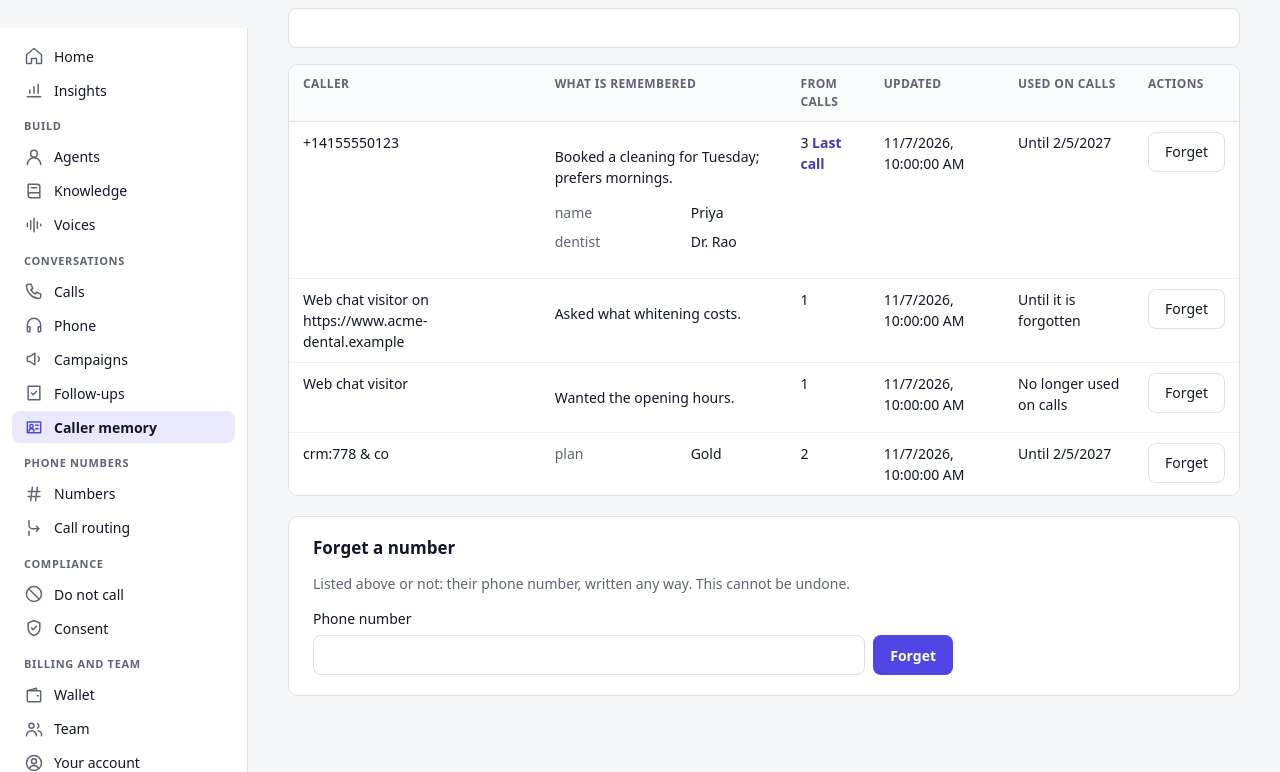
it: caller memory › forgets any number typed in, says whether anything was remembered about it, and reads the list again
(page scrolled)
In the field labelled "Phone number": [589, 655] box [313, 635, 865, 675], type "+1 415 555 0199"
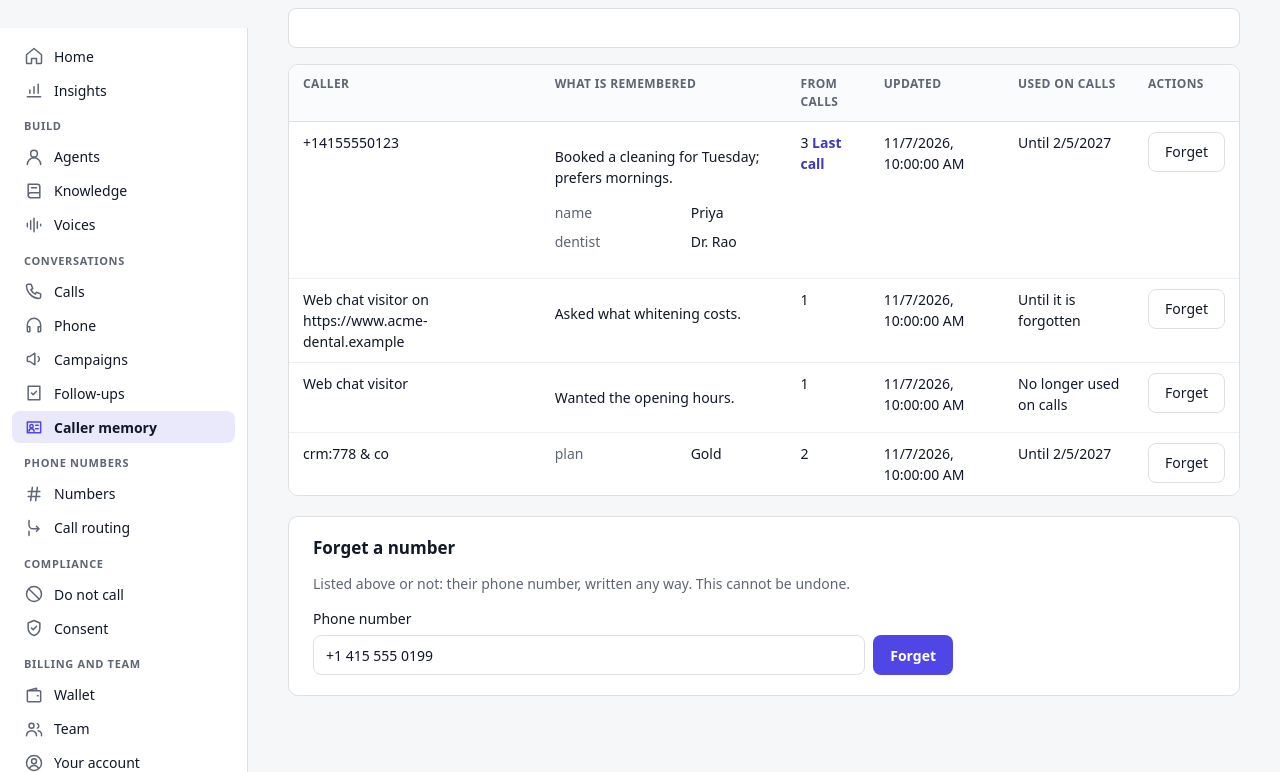
Click the 5th button "Forget": [913, 655] box [873, 635, 953, 675]
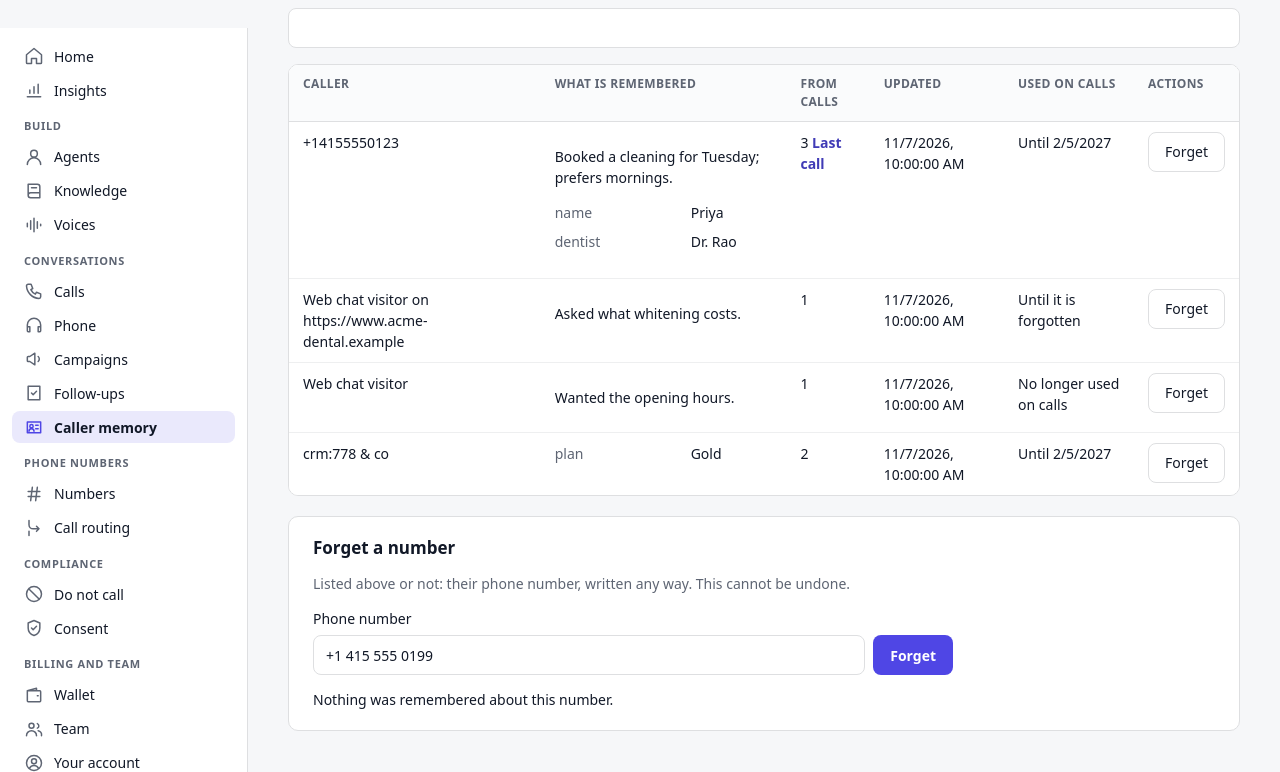
Now the message reads "Nothing was remembered about this number.", box [313, 690, 613, 709]
Replace the text in the field labelled "Phone number" with "+1 (415) 555-0123": [589, 655] box [313, 635, 865, 675]
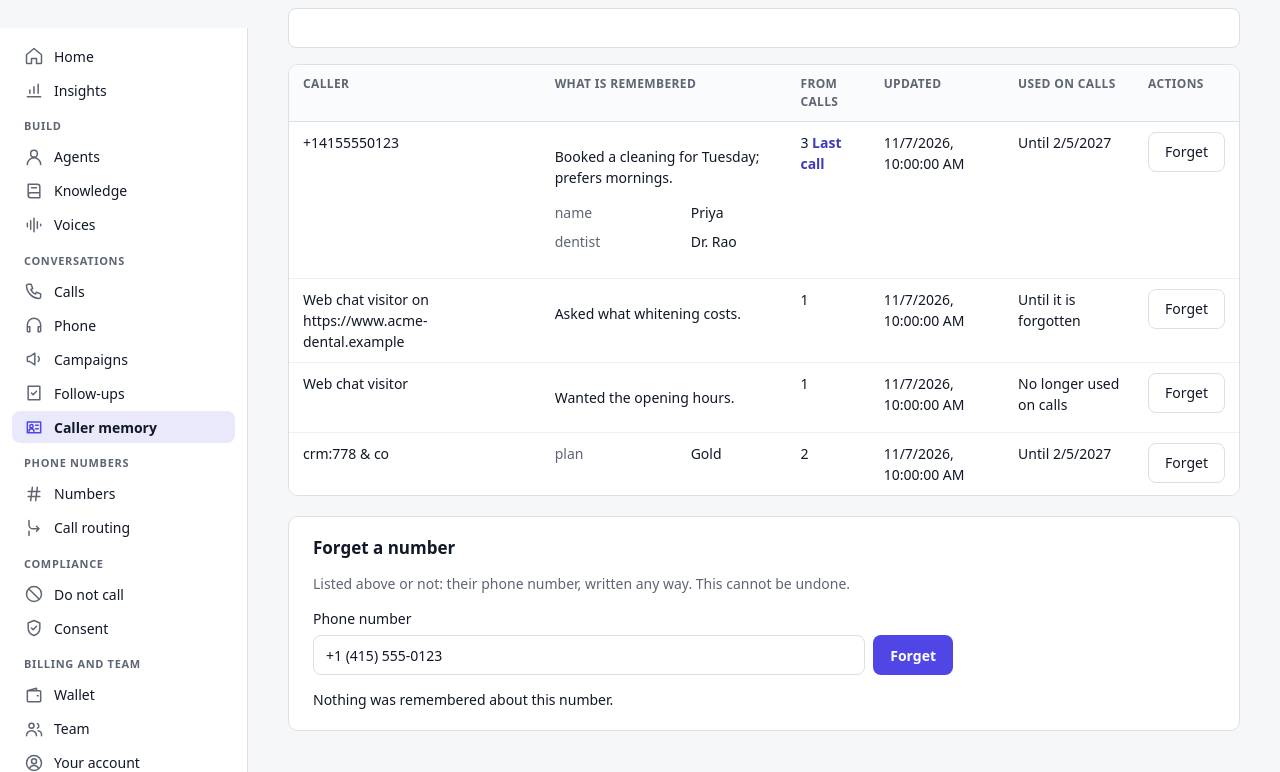
Click the 5th button "Forget": [913, 655] box [873, 635, 953, 675]
(page scrolled)
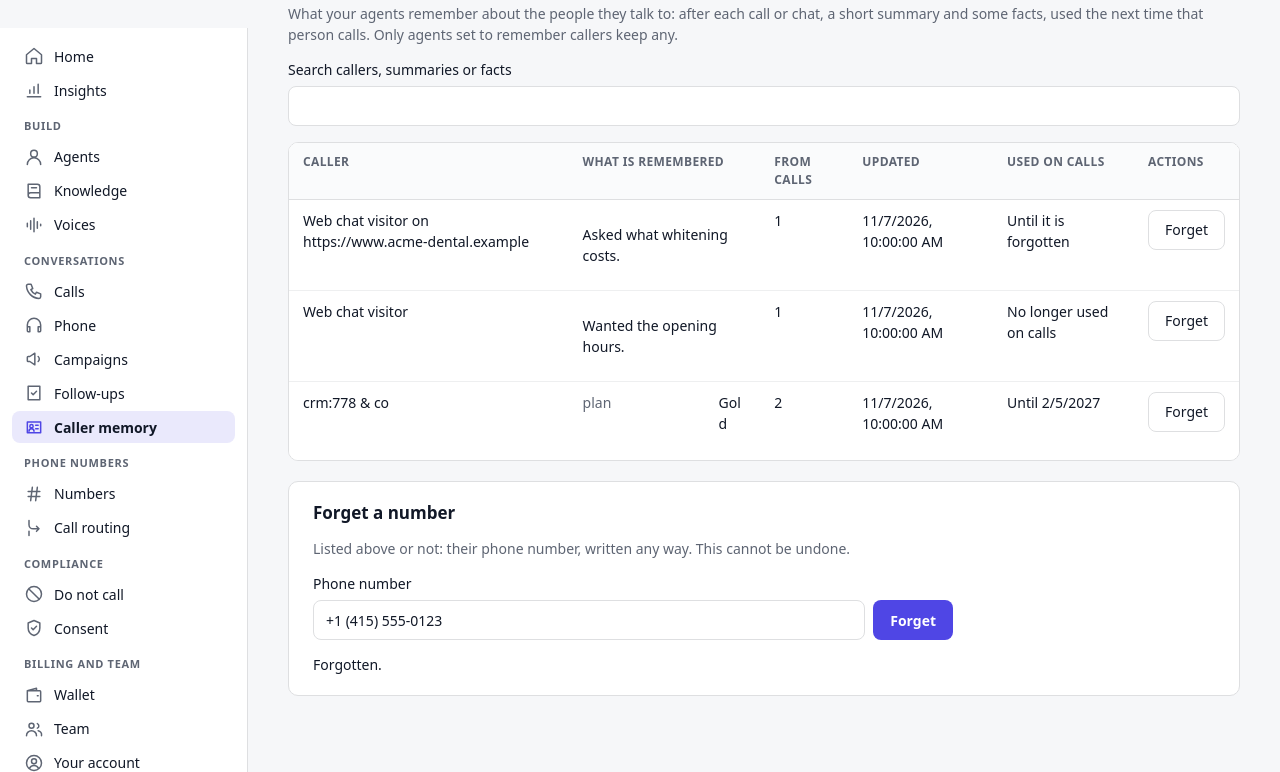
Now the message reads "Forgotten.", box [313, 655, 382, 674]
